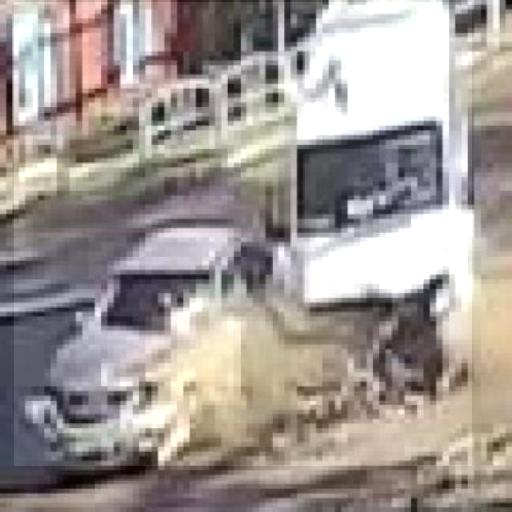小汽车撞小汽车: (14, 2, 472, 466)
